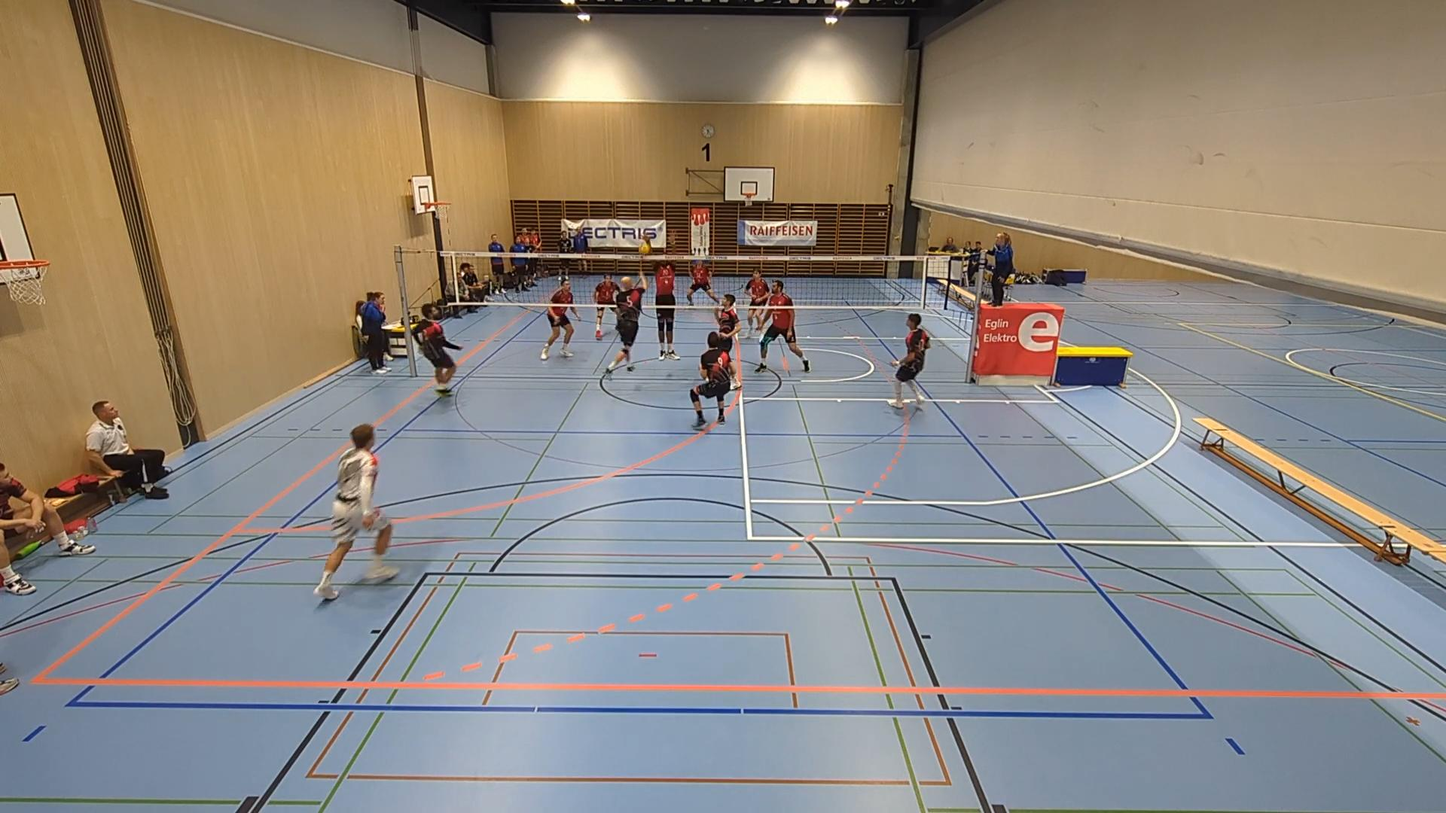Attack: (605, 271, 654, 377)
Block: (646, 226, 688, 366)
Player: (313, 424, 398, 600), (755, 280, 810, 372), (413, 303, 460, 394), (690, 332, 731, 430), (890, 313, 930, 409), (540, 277, 577, 359), (715, 294, 741, 388), (594, 274, 618, 338), (744, 270, 768, 334), (687, 260, 718, 305)
ball: (638, 240, 649, 250)
